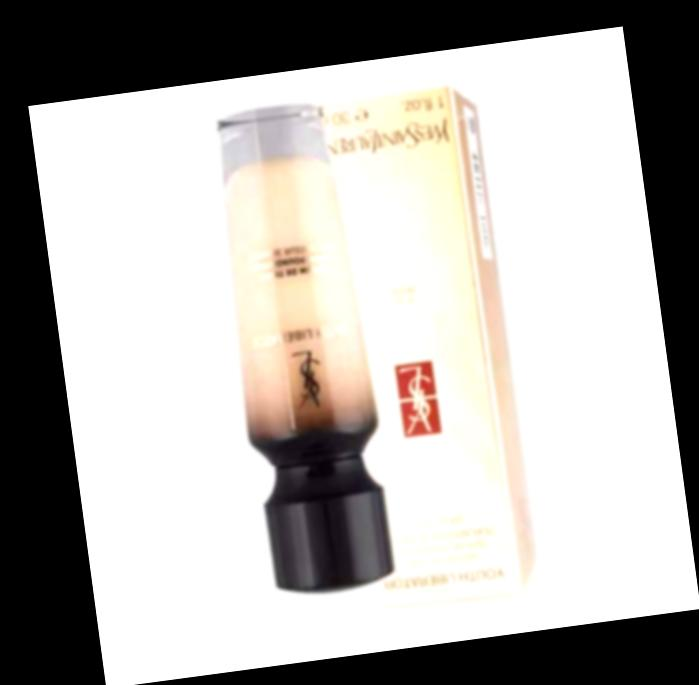cosmetic: (203, 98, 400, 592)
